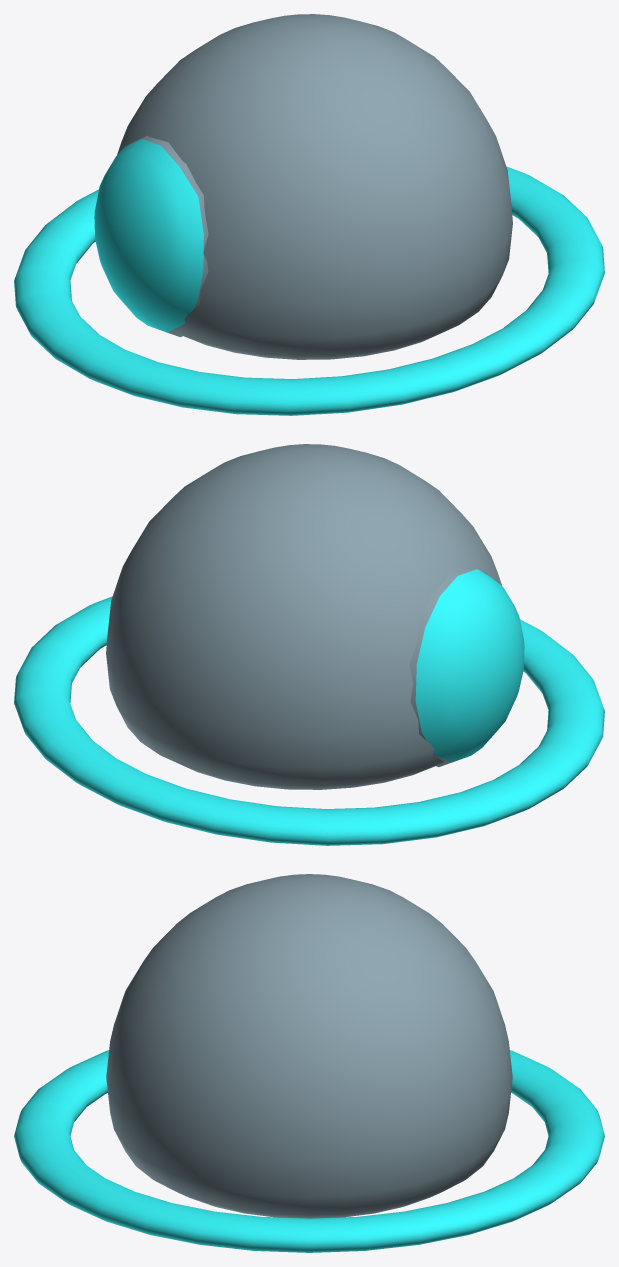
File: Raddler.fbx
3 views of the same model, one above another, from view 1: azimuth 30°, elevation 25°; view 2: azimuth 150°, elevation 25°; view 3: azimuth 270°, elevation 25° (orthographic).
Visible parts, largest first — view 1: Sphere.001; view 2: Sphere.001; view 3: Sphere.001.
Boxes of the visible parts, bbox=[...] form: Sphere.001: bbox=[14, 14, 604, 415]; Sphere.001: bbox=[14, 444, 604, 845]; Sphere.001: bbox=[14, 874, 604, 1252].
Bounding box in the file's own units: 399 × 212 × 400.
